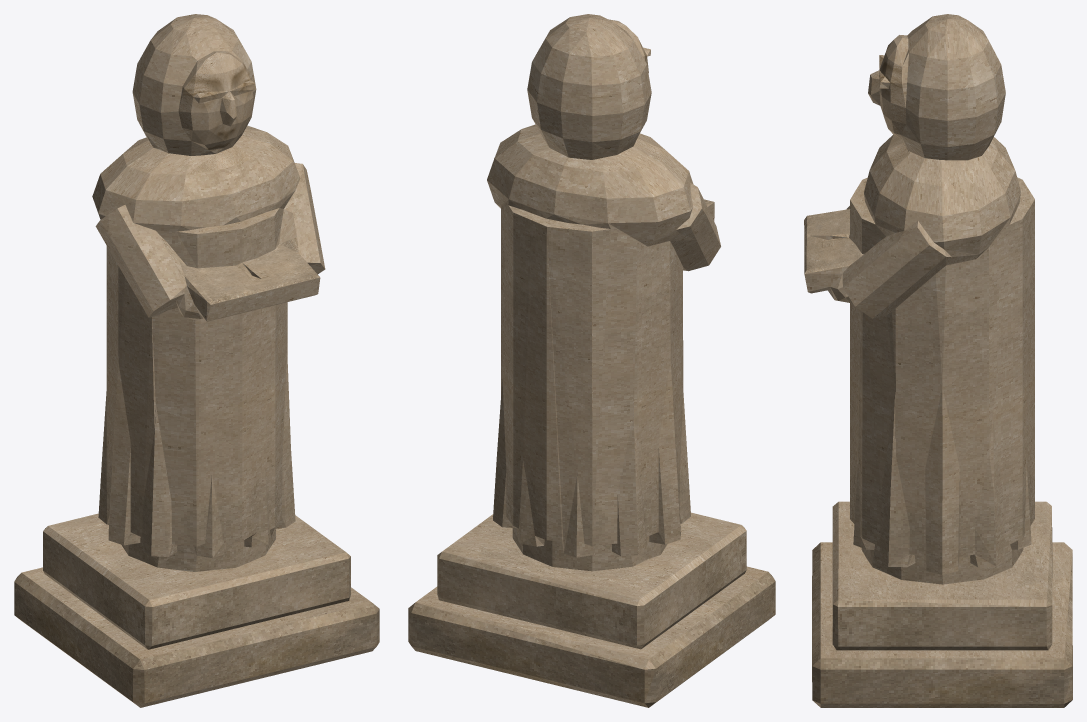
Rendered from level_castle_keeper_statue.glb.
3 views of the same model, side by side, from view 1: azimuth 30°, elevation 25°; view 2: azimuth 150°, elevation 25°; view 3: azimuth 270°, elevation 25° (orthographic). The views are drawn at different scales.
Visible parts, largest first — view 1: Keeper / continuous limestone carving; view 2: Keeper / continuous limestone carving; view 3: Keeper / continuous limestone carving.
Boxes of the visible parts, x1,y1,x2,y2 form: Keeper / continuous limestone carving: (14,14,379,707); Keeper / continuous limestone carving: (408,14,775,707); Keeper / continuous limestone carving: (804,14,1072,707).
Bounding box in the file's own units: 0.8498 × 2.03 × 0.7831.
1 material, 1 textured.
